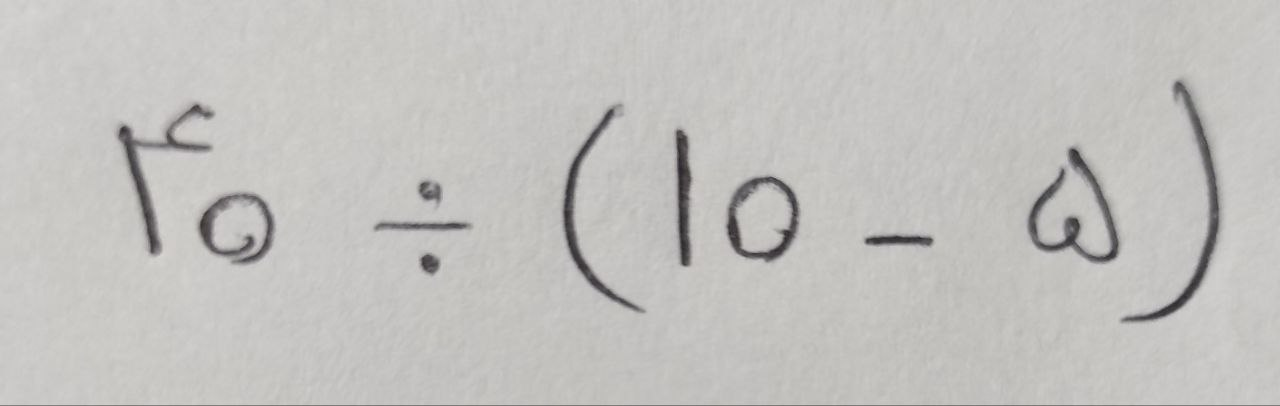character: (1120, 80, 1221, 325), (564, 106, 648, 314), (119, 103, 213, 255), (1029, 147, 1119, 263), (375, 180, 474, 276), (729, 176, 800, 262), (199, 193, 276, 268), (675, 130, 694, 267), (864, 235, 935, 248)
